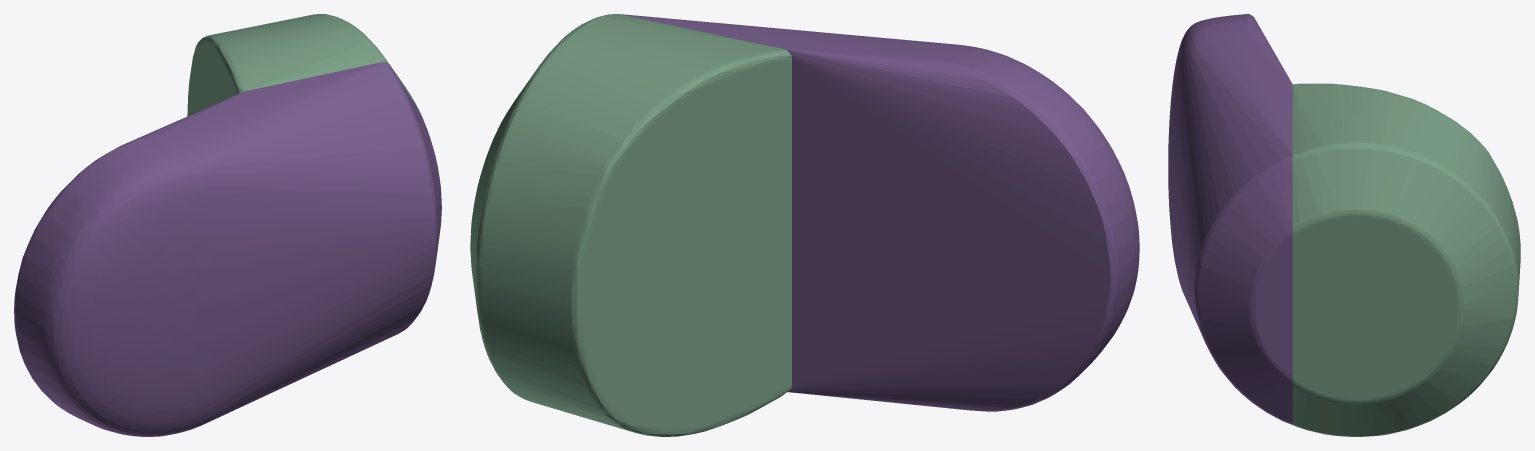
File: arm_l7.obj
3 views of the same model, side by side, from view 1: azimuth 30°, elevation 25°; view 2: azimuth 150°, elevation 25°; view 3: azimuth 270°, elevation 25° (orthographic). The views are drawn at different scales.
Visible parts, largest first — view 1: geometry_1, geometry_0; view 2: geometry_0, geometry_1; view 3: geometry_0, geometry_1.
Part boxes in pixels (<box>): geometry_1: <box>14,62,441,436</box>; geometry_0: <box>187,14,418,116</box>; geometry_0: <box>470,14,791,436</box>; geometry_1: <box>619,14,1139,411</box>; geometry_0: <box>1292,83,1520,436</box>; geometry_1: <box>1168,14,1292,424</box>.
Bounding box in the file's own units: 0.1106 × 0.0741 × 0.0805.
